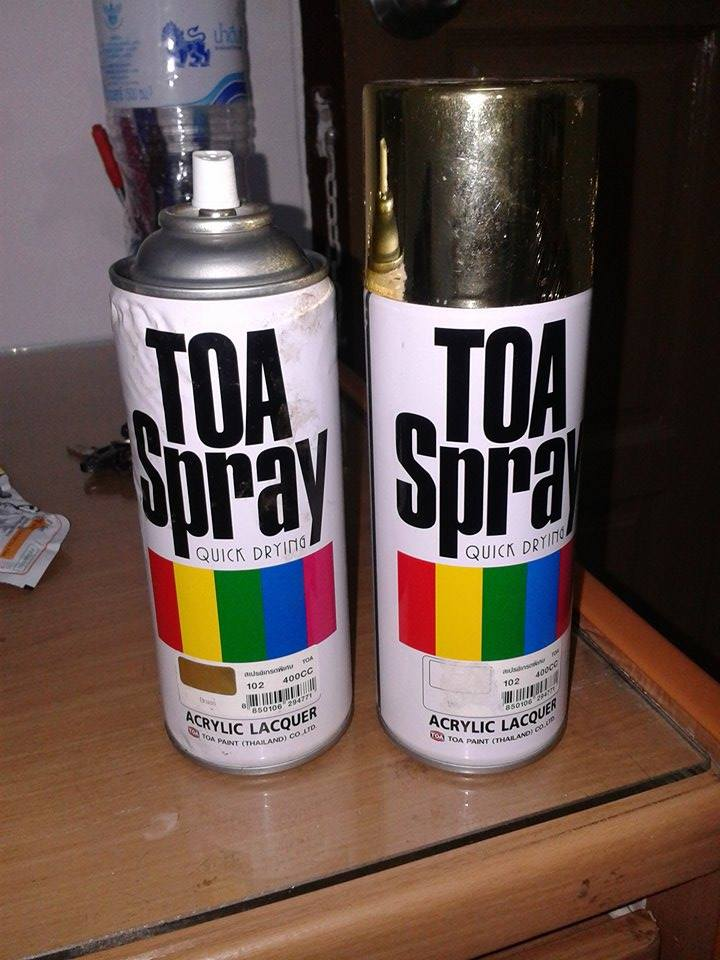Aerosol_cans: (355, 70, 604, 782), (104, 146, 359, 779)
